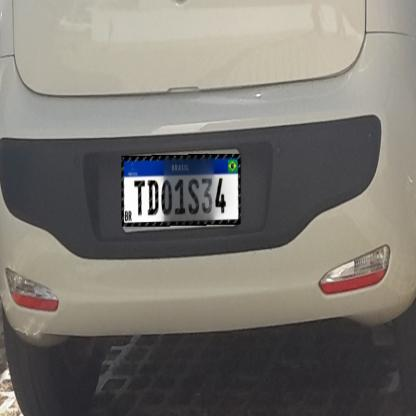PlacaM: (122, 154, 240, 227)
